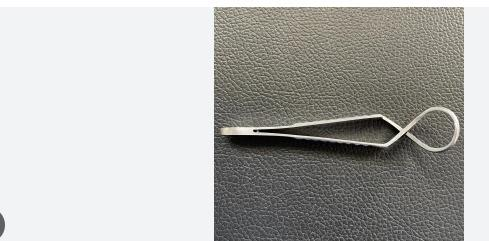Jones Towel Clamp: (218, 103, 459, 158)
